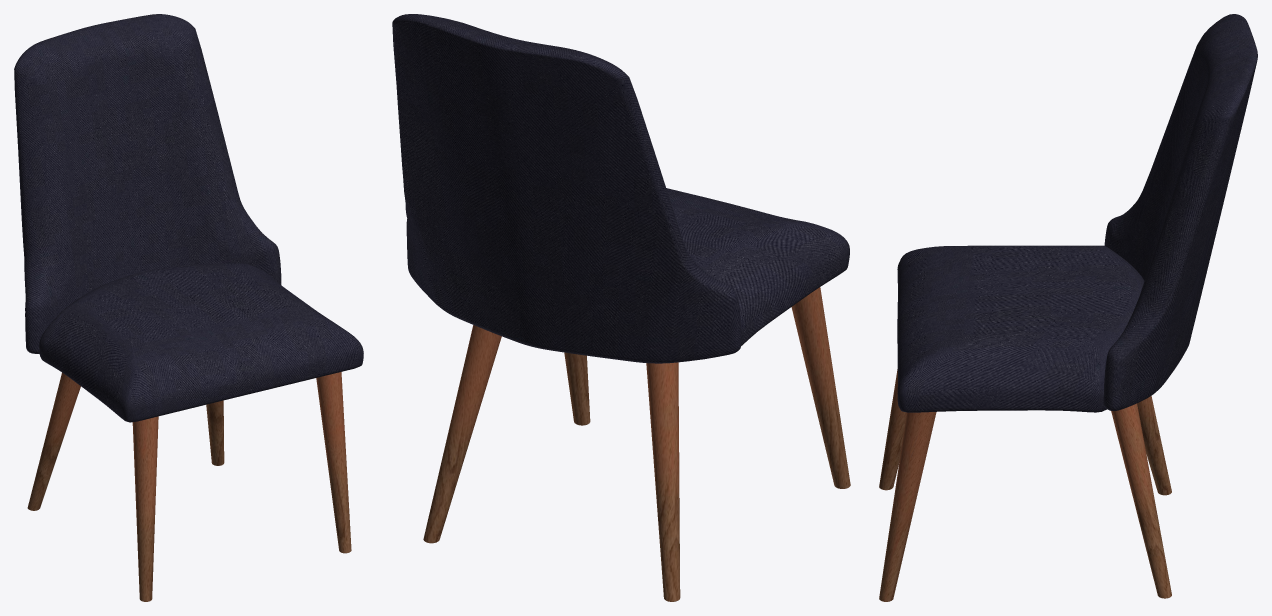
3 views of the same model, side by side, from view 1: azimuth 30°, elevation 25°; view 2: azimuth 150°, elevation 25°; view 3: azimuth 270°, elevation 25° (orthographic). The views are drawn at different scales.
Visible parts, largest first — view 1: RootNode; view 2: RootNode; view 3: RootNode.
Part boxes in pixels (box(x1,y1,x2,y2)): RootNode: box(14, 14, 363, 601); RootNode: box(392, 14, 850, 601); RootNode: box(879, 14, 1257, 601).
Bounding box in the file's own units: 0.5045 × 0.8197 × 0.5673.
1 material, 1 textured.
